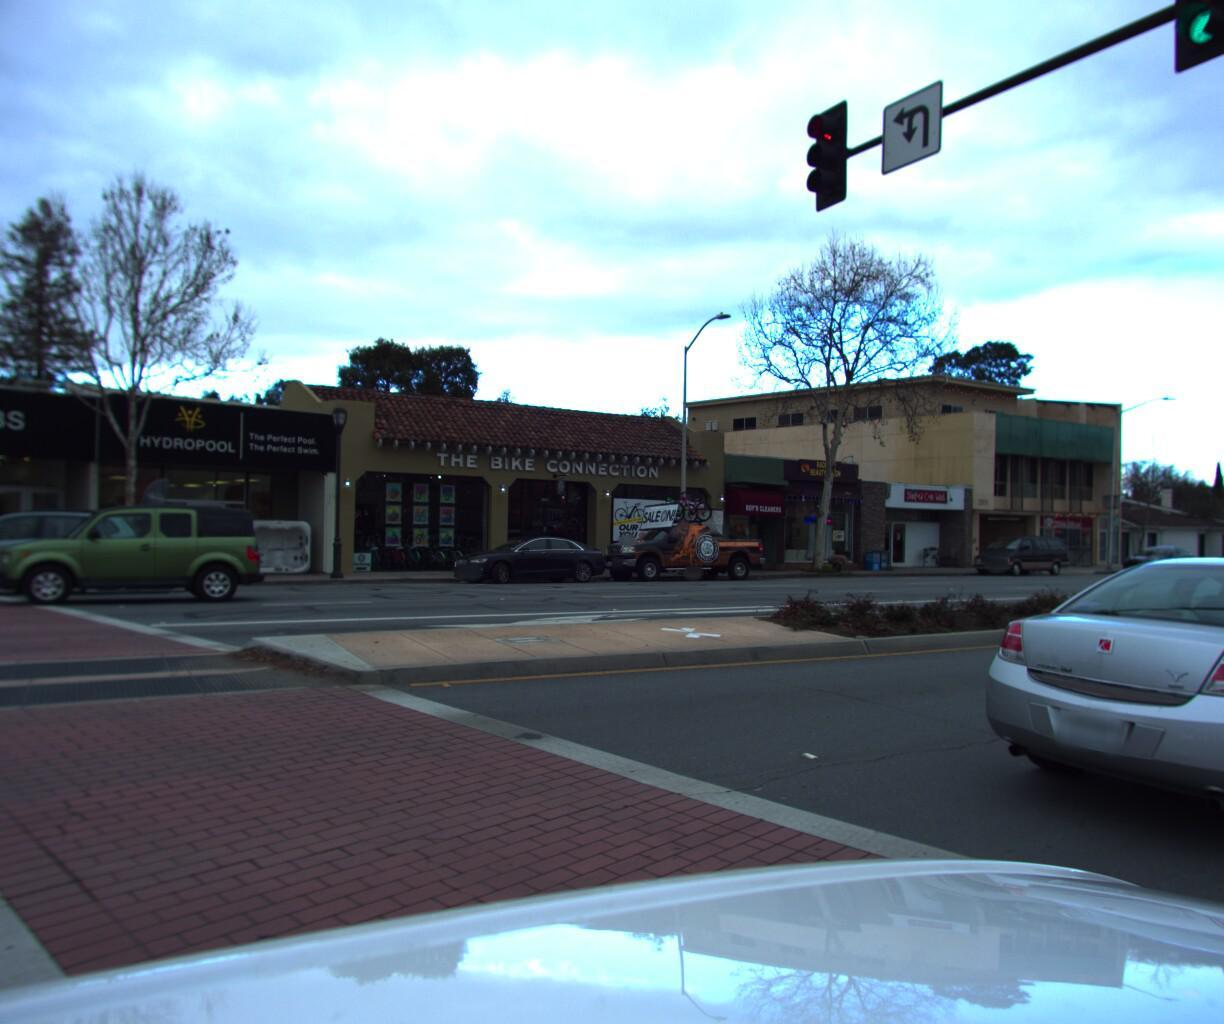car: (936, 552, 1224, 902), (0, 500, 277, 612), (0, 504, 162, 602), (588, 525, 770, 585), (438, 530, 616, 587), (963, 531, 1070, 574), (1112, 540, 1200, 573)
